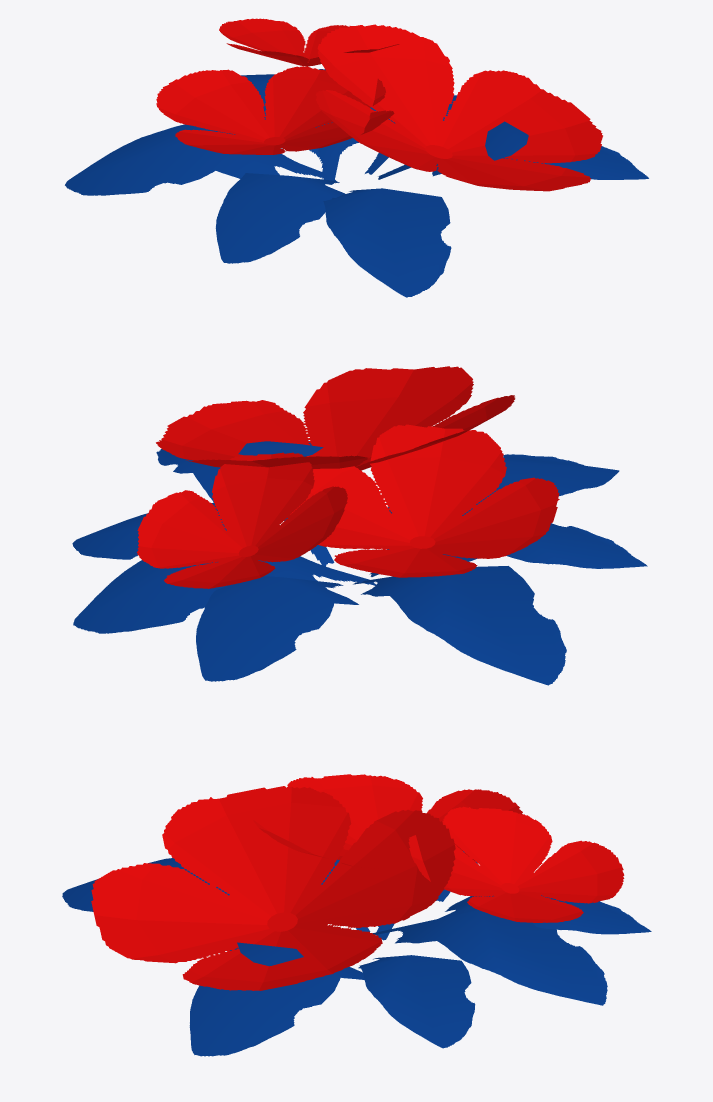
File: SM_FloorFlower1.fbx
3 renders of one model, top to bottom at view 1: azimuth 30°, elevation 25°; view 2: azimuth 150°, elevation 25°; view 3: azimuth 270°, elevation 25°, orthographic. The views are drawn at different scales.
Parts seen in each view (by area): view 1: Circle003; view 2: Circle003; view 3: Circle003.
Boxes of the visible parts, box(x1,y1,x2,y2) form: Circle003: box(65, 18, 648, 297); Circle003: box(72, 366, 647, 685); Circle003: box(62, 774, 651, 1056).
Size of the model in its own units: 25.09 by 6.74 by 26.64.
